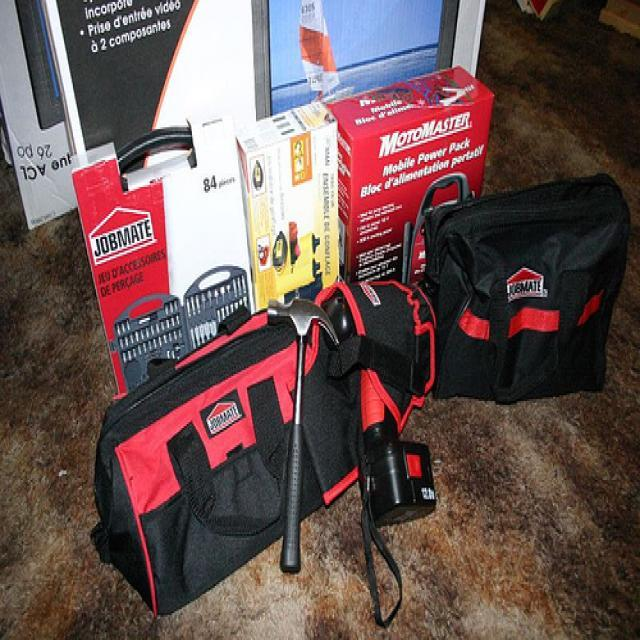drill: (339, 337, 444, 555)
hammer: (250, 276, 348, 582)
